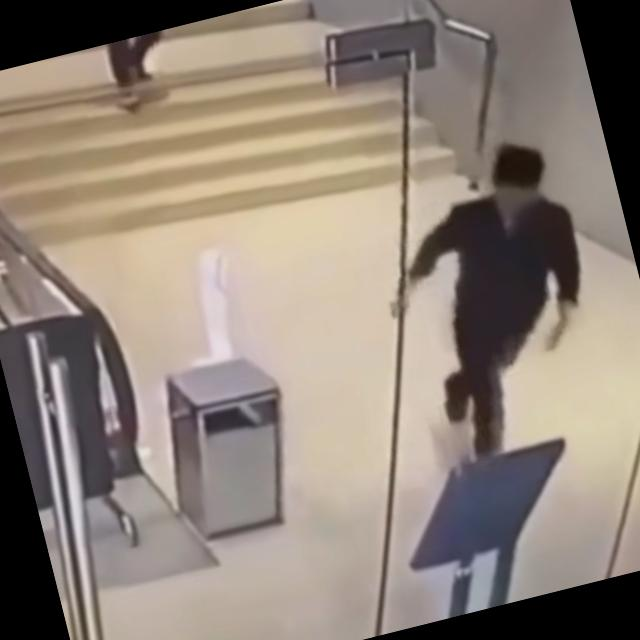person: (380, 130, 624, 465), (102, 30, 180, 111)
